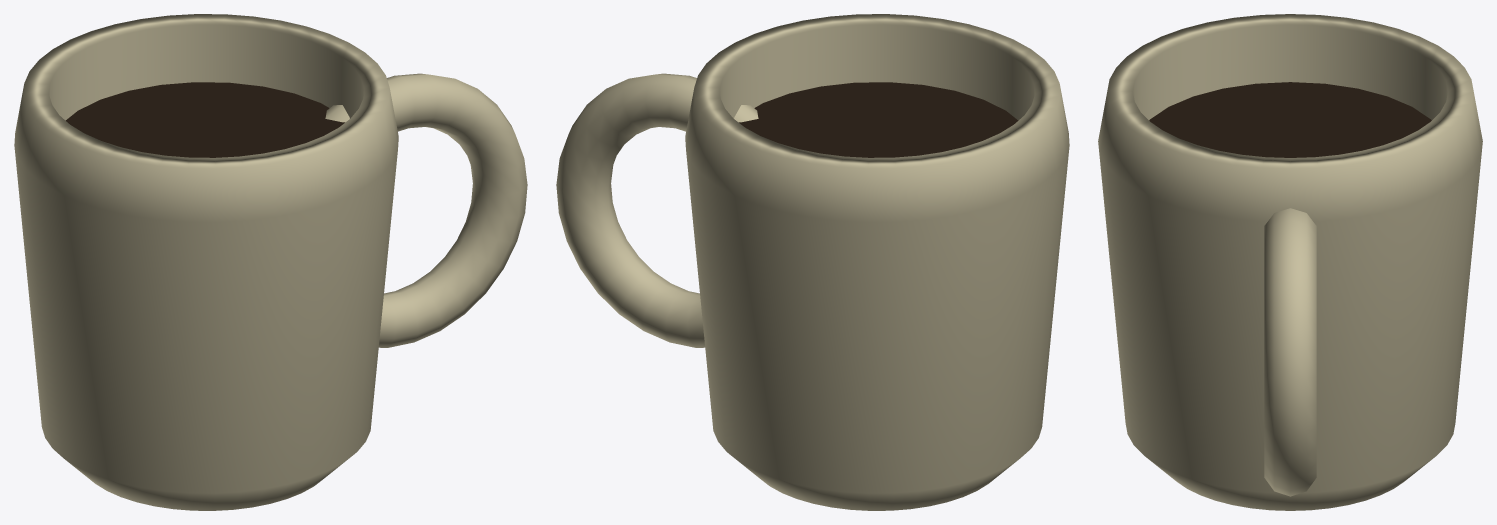
Rendered from cup.glb.
3 views of the same model, side by side, from view 1: azimuth 30°, elevation 25°; view 2: azimuth 150°, elevation 25°; view 3: azimuth 270°, elevation 25° (orthographic).
Parts seen in each view (by area): view 1: cup; view 2: cup; view 3: cup.
Boxes of the visible parts, box(x1,y1,x2,y2) form: cup: box(14, 14, 527, 510); cup: box(556, 14, 1069, 510); cup: box(1098, 14, 1482, 510).
Size of the model in its own units: 0.305 by 0.22 by 0.21.
